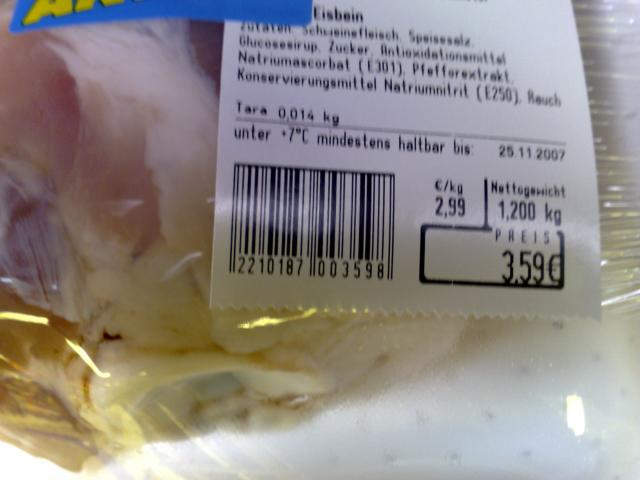Barkod: (226, 161, 396, 264)
